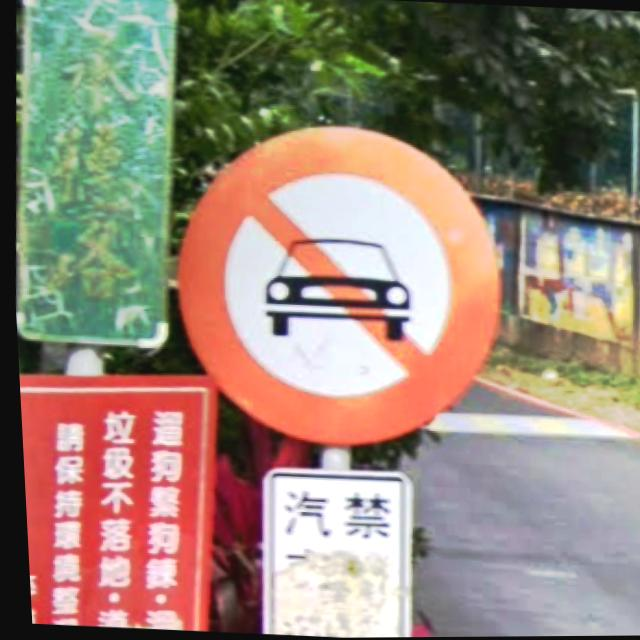nocar: (174, 127, 500, 448)
